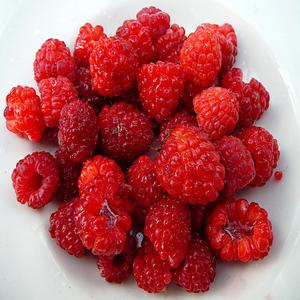raspb: (19, 20, 278, 278)
